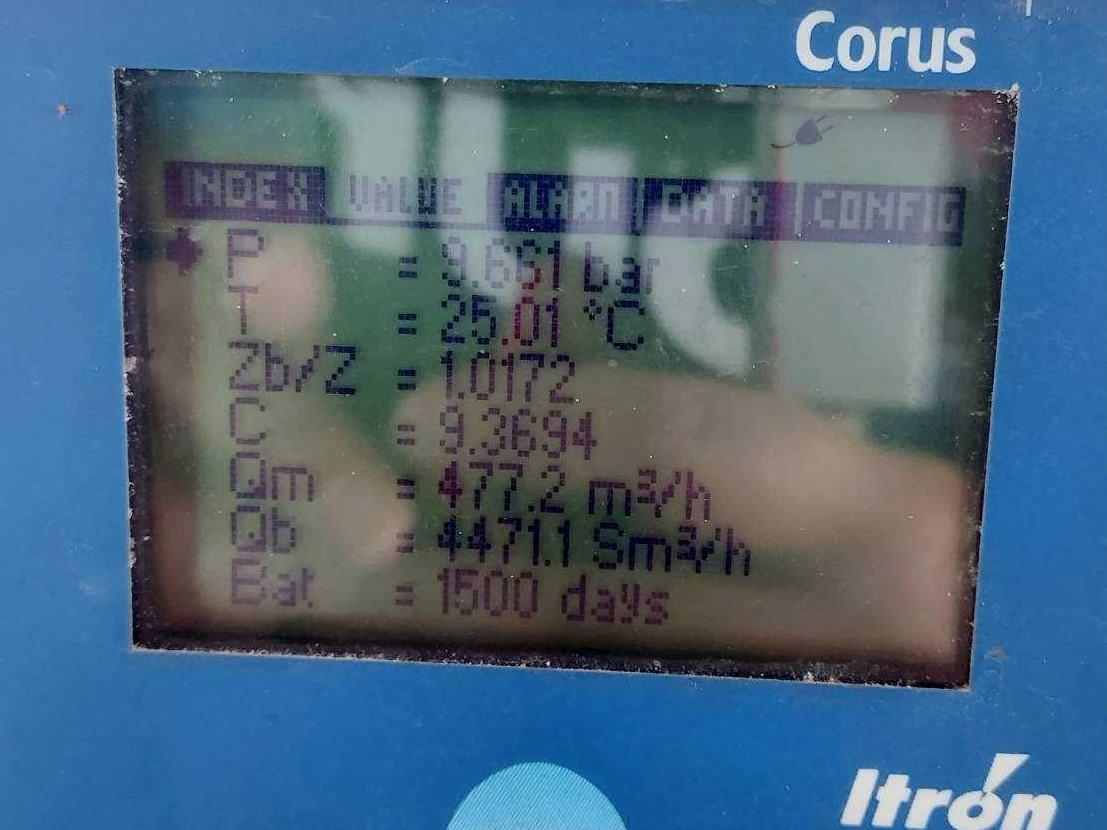digital_screen: (97, 54, 1016, 686)
